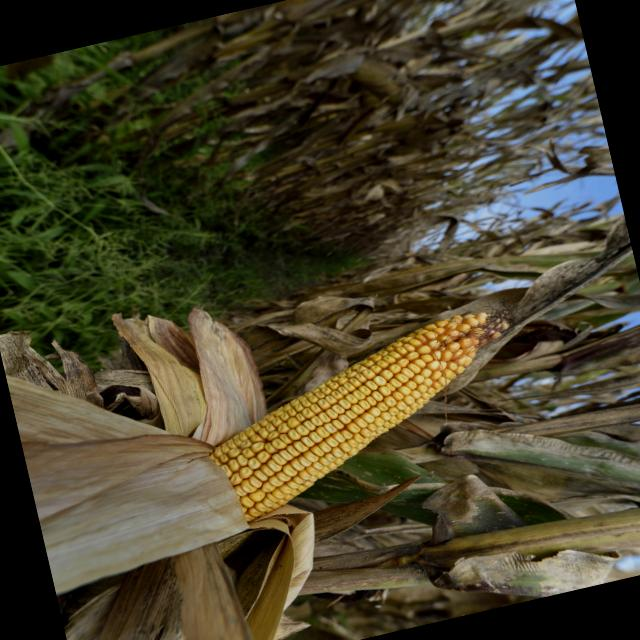corn: (183, 290, 542, 532)
